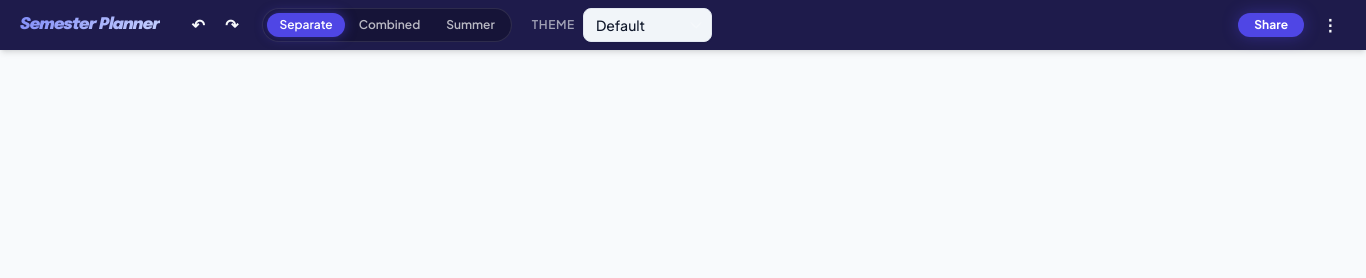
Test: TopBar › closes overflow menu on Escape
The width and height of the screenshot is (1366, 278).
Click the button "⋮": [1330, 25] box [1314, 9, 1346, 41]
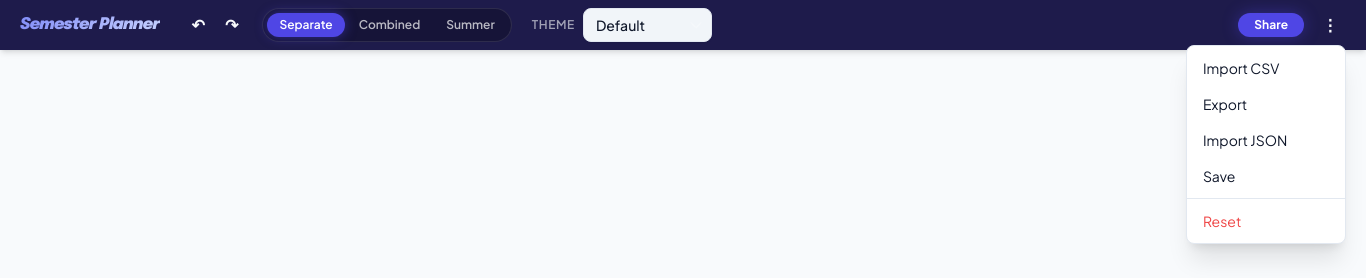
Expected: the button "Save" is shown, [1187, 158, 1345, 194]
Press Escape
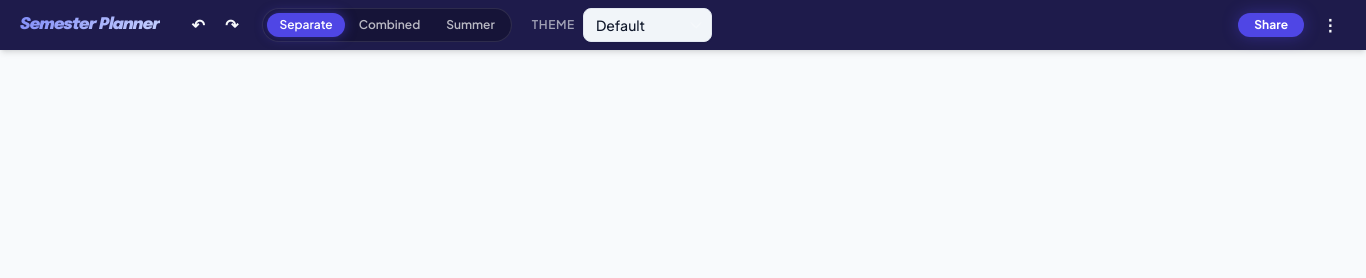
Expected: the button "Save" is gone
